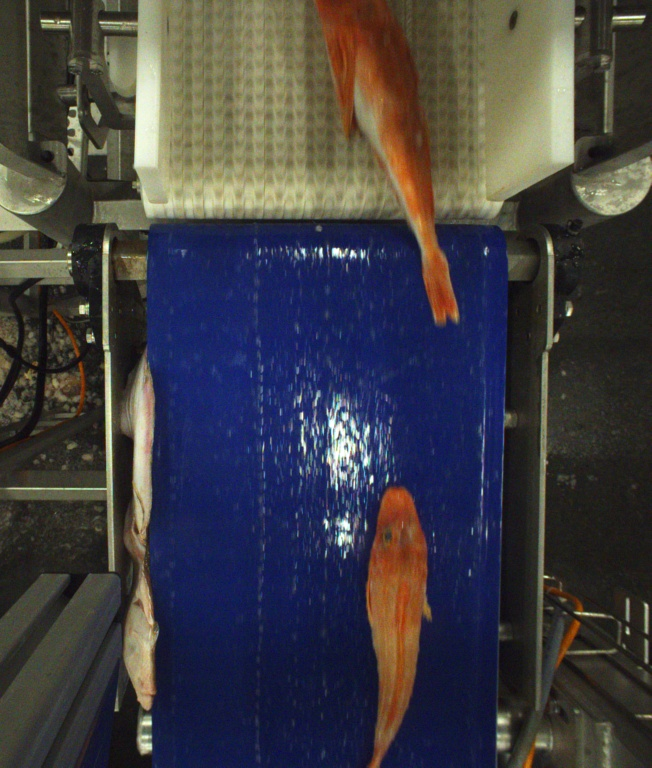GUU: (367, 487, 433, 768)
